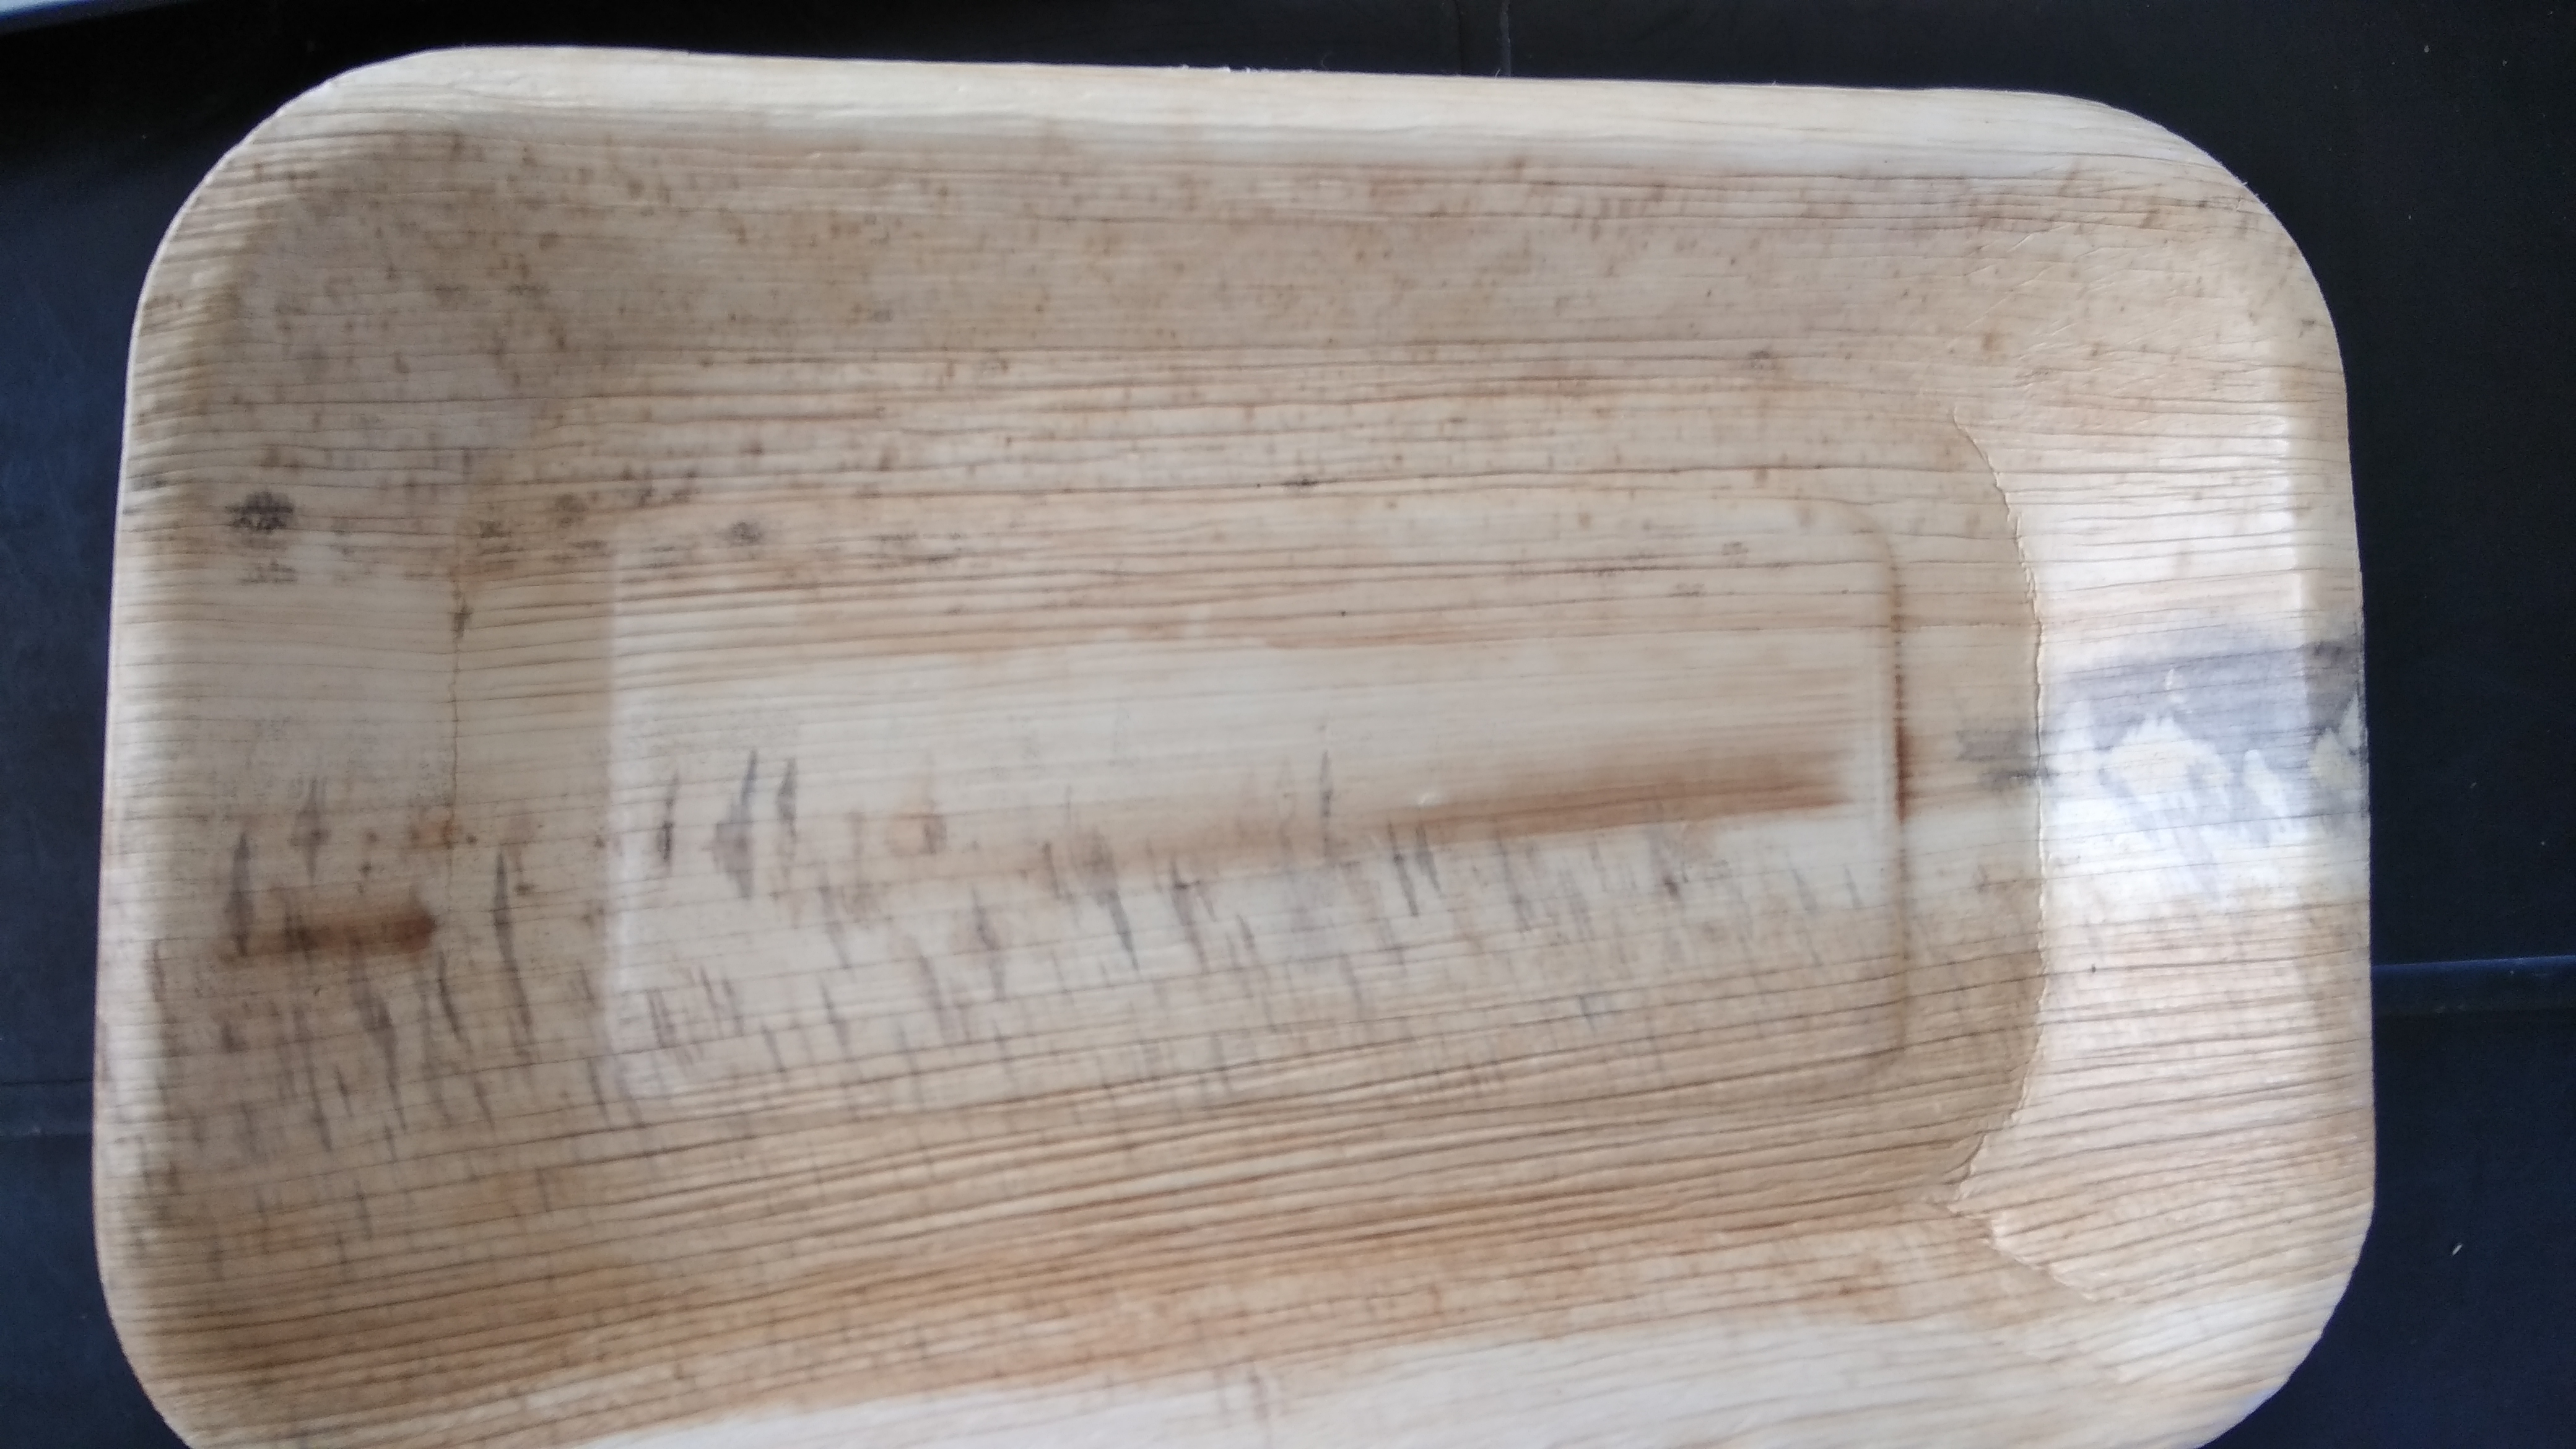areca plate: (126, 46, 2353, 1449)
